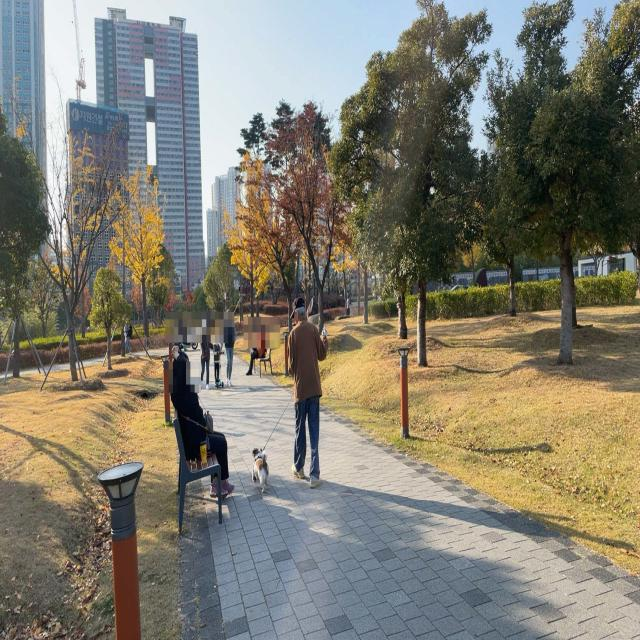Leashed_Dog: (252, 384, 302, 495)
